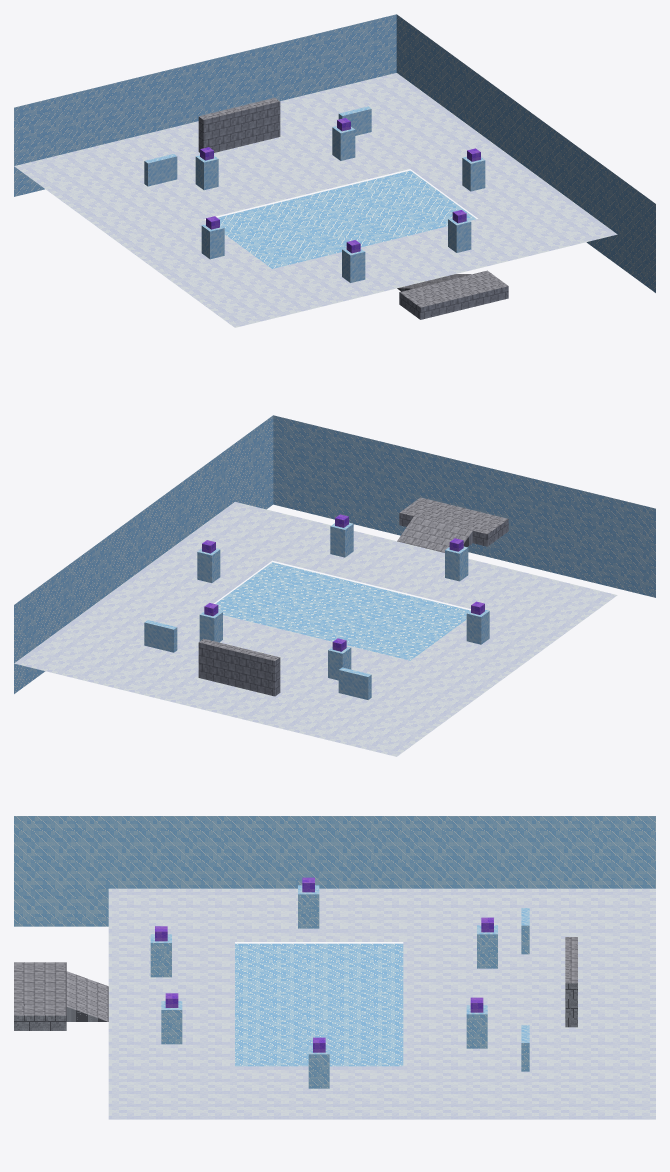
The model's file is glacia.glb.
3 renders of one model, top to bottom at view 1: azimuth 30°, elevation 25°; view 2: azimuth 150°, elevation 25°; view 3: azimuth 270°, elevation 25°, orthographic. The views are drawn at different scales.
Parts seen in each view (by area): view 1: glacia; view 2: glacia; view 3: glacia.
Part boxes in pixels (x1=…): glacia: x1=14, y1=14, x2=655, y2=327; glacia: x1=14, y1=415, x2=655, y2=756; glacia: x1=14, y1=816, x2=655, y2=1119.
Size of the model in its own units: 2600 by 580 by 3050.
Materials: 6 (6 with a texture image).
